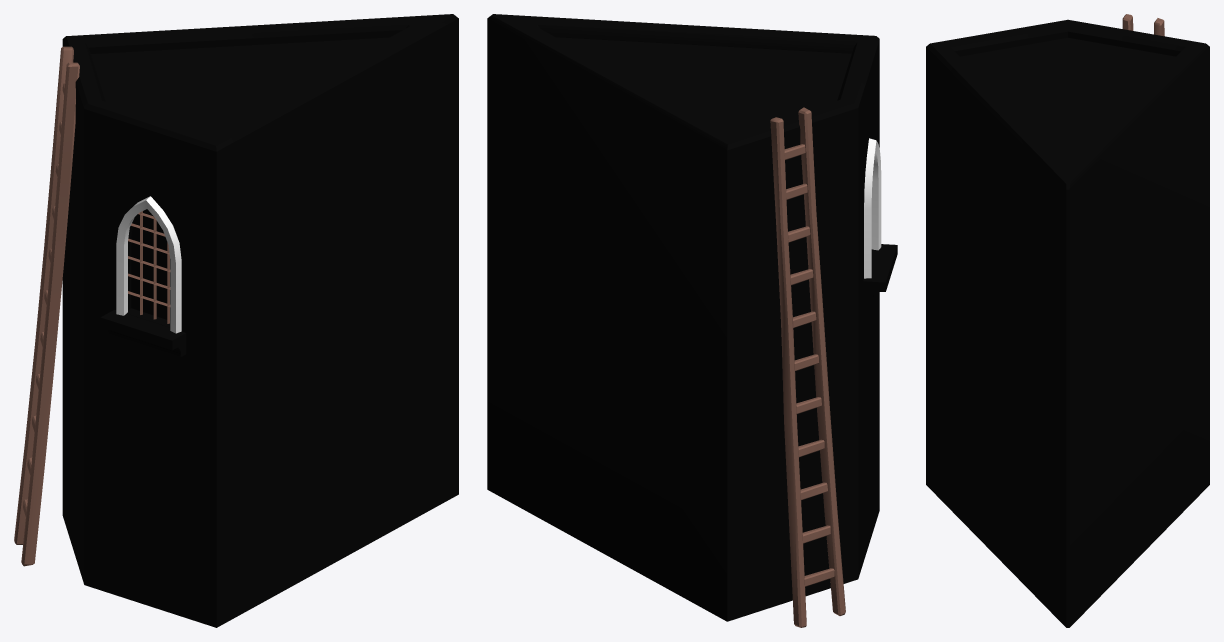
Rendered from civilian_house_22.FBX.
3 views of the same model, side by side, from view 1: azimuth 30°, elevation 25°; view 2: azimuth 150°, elevation 25°; view 3: azimuth 270°, elevation 25° (orthographic). The views are drawn at different scales.
Visible parts, largest first — view 1: civilian_house_22_LOD0; view 2: civilian_house_22_LOD0; view 3: civilian_house_22_LOD0.
Boxes of the visible parts, x1,y1,x2,y2 form: civilian_house_22_LOD0: (14, 14, 458, 627); civilian_house_22_LOD0: (487, 14, 897, 627); civilian_house_22_LOD0: (926, 14, 1209, 627).
Size of what is drawn, in the model's own units: 594 by 708 by 398.
